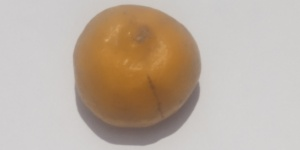BAD: (73, 4, 204, 126)
